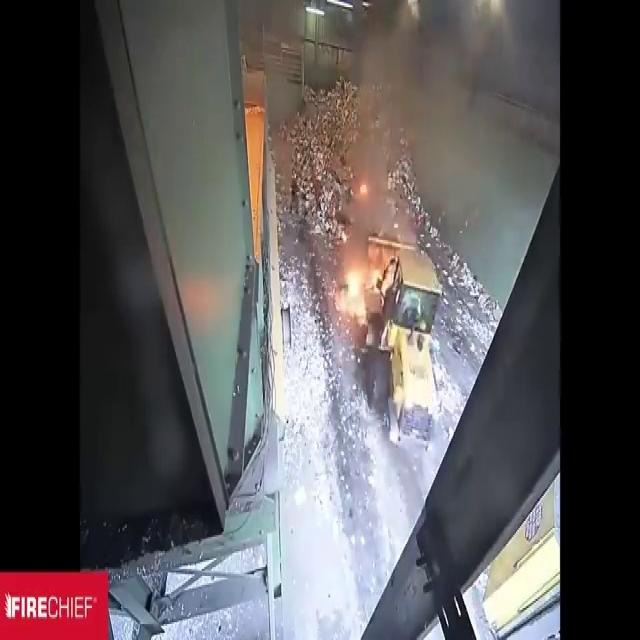fire: (331, 244, 380, 318), (348, 139, 384, 220)
